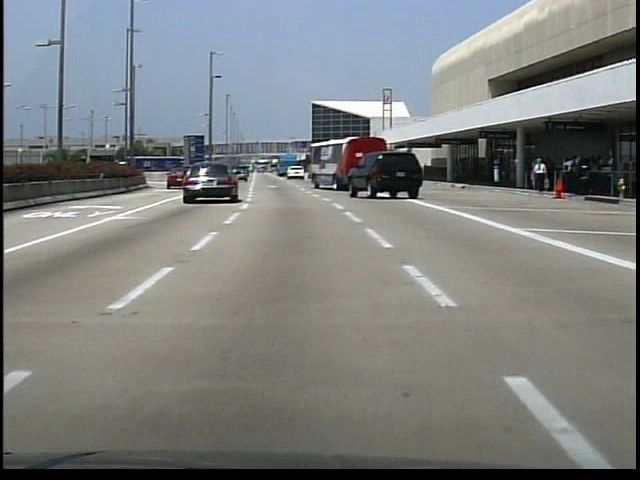person: (532, 157, 550, 195)
